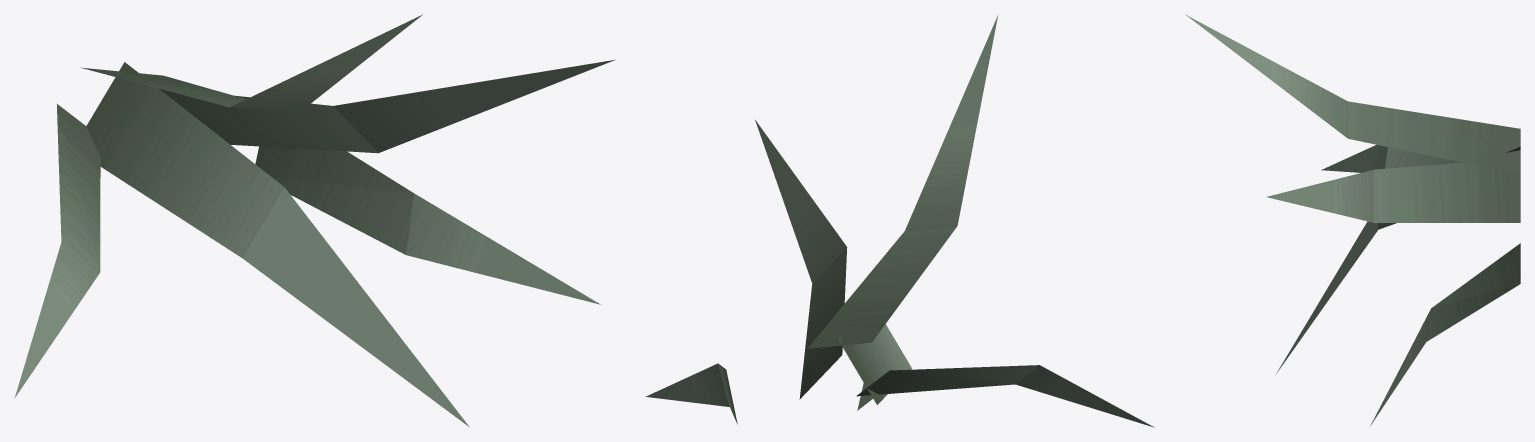
File: prop_grass.glb
The picture shows the model from 3 angles, left to right: view 1: azimuth 30°, elevation 25°; view 2: azimuth 150°, elevation 25°; view 3: azimuth 270°, elevation 25°; orthographic projection. The views are drawn at different scales.
Parts seen in each view (by area): view 1: prop_grass; view 2: prop_grass; view 3: prop_grass.
Part boxes in pixels (bbox=[...]): prop_grass: bbox=[14, 14, 615, 427]; prop_grass: bbox=[645, 15, 1154, 427]; prop_grass: bbox=[1185, 14, 1520, 426].
Size of the model in its own units: 95.08 by 71.63 by 67.04.
Materials: 1 (1 with a texture image).
